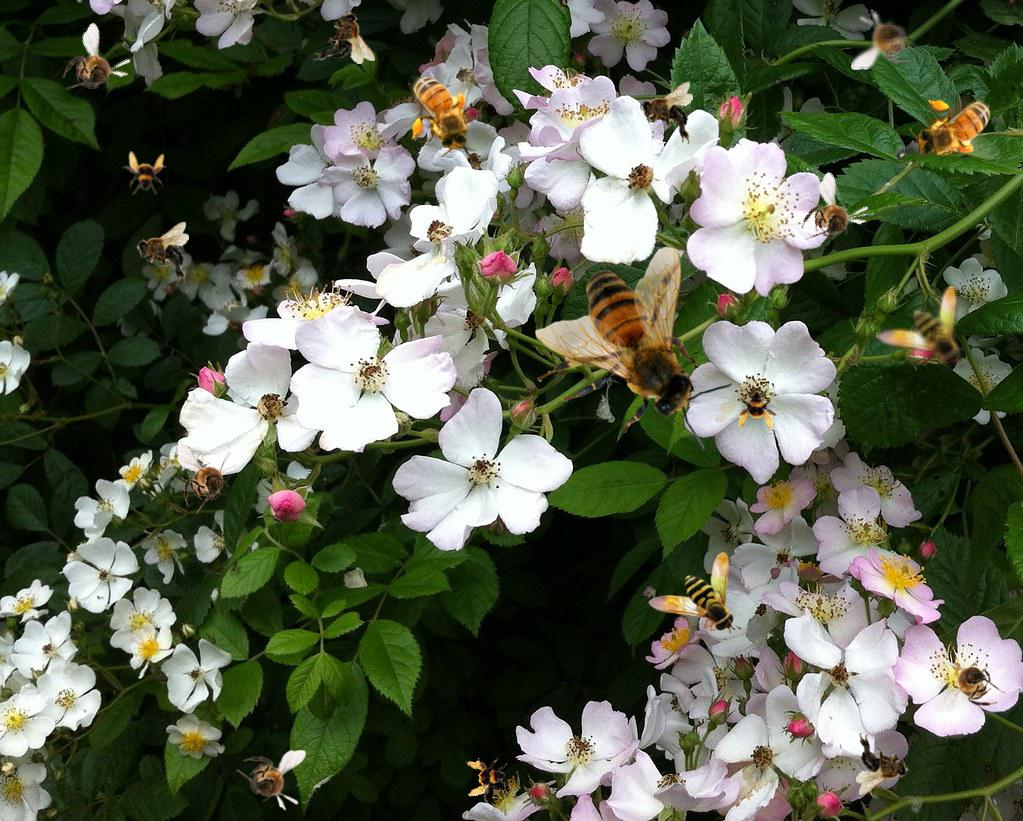Bee: (535, 246, 734, 450), (50, 21, 141, 115), (788, 170, 879, 264), (876, 286, 964, 368), (648, 552, 736, 634), (910, 96, 1003, 164), (408, 64, 476, 157), (935, 652, 1005, 713), (236, 750, 306, 811), (177, 444, 238, 514), (851, 9, 921, 70), (856, 733, 909, 795), (313, 11, 375, 64), (640, 82, 693, 144), (136, 222, 189, 284), (463, 754, 513, 804), (122, 151, 166, 195), (736, 387, 780, 431)
